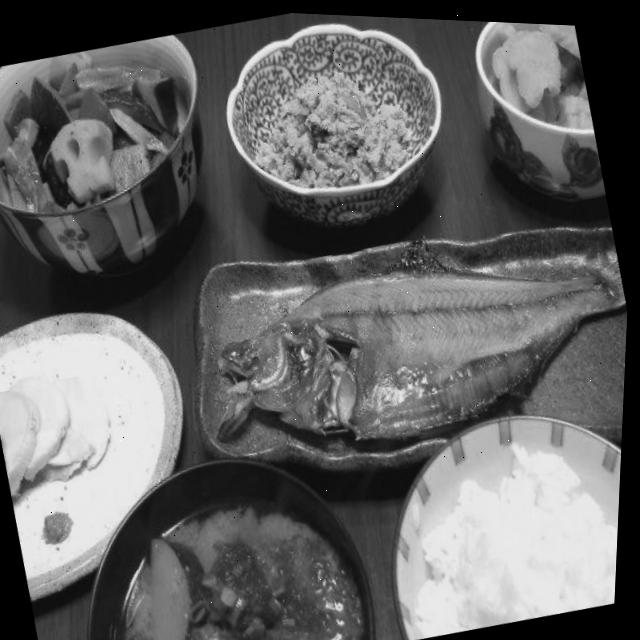熟制海鲜: (200, 206, 633, 464)
